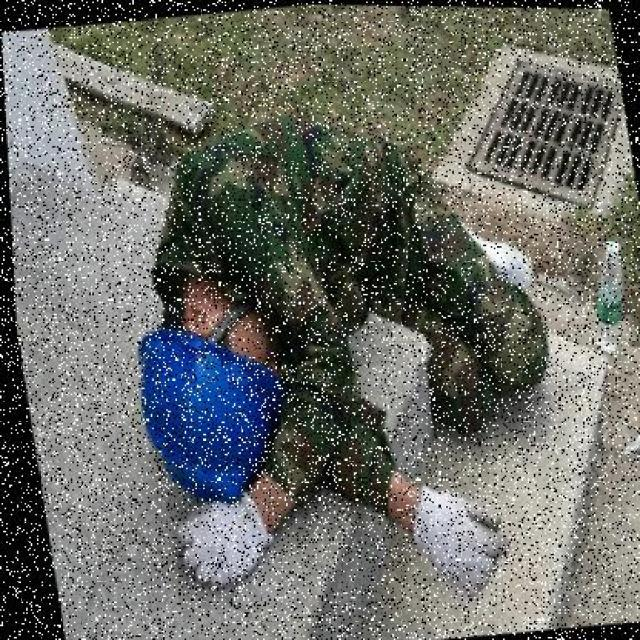helmet: (123, 317, 300, 509)
